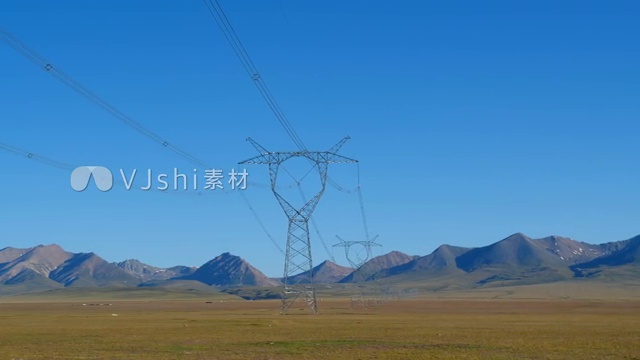tower_body: (237, 133, 366, 318), (330, 228, 386, 313)
tower_foot: (279, 267, 318, 314), (350, 290, 376, 310)
tower_head: (240, 137, 361, 222), (333, 230, 383, 267)
